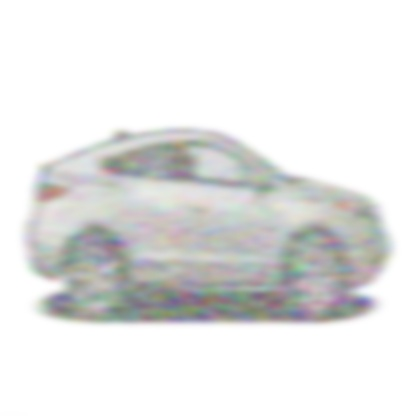Vehicle: (27, 127, 391, 323)
